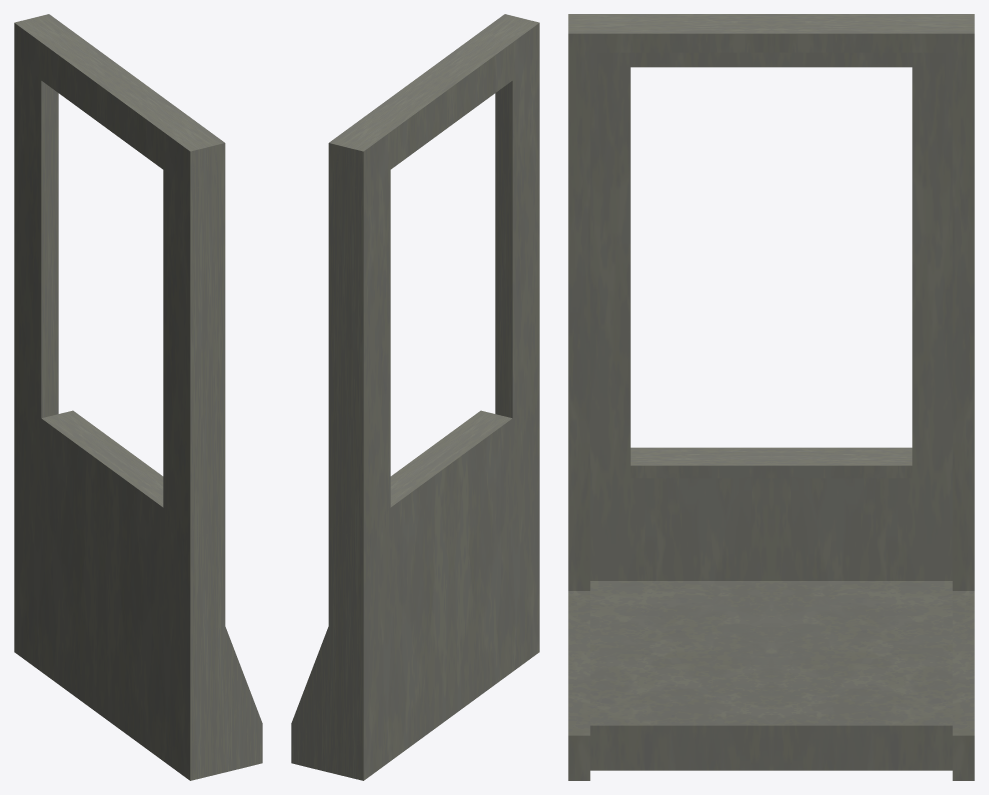
File: SovietWindowV2.fbx
3 renders of one model, left to right at view 1: azimuth 30°, elevation 25°; view 2: azimuth 150°, elevation 25°; view 3: azimuth 270°, elevation 25°, orthographic. The views are drawn at different scales.
Parts seen in each view (by area): view 1: Cube; view 2: Cube; view 3: Cube.
Boxes of the visible parts, x1,y1,x2,y2 form: Cube: (14,14,262,780); Cube: (291,14,539,780); Cube: (568,14,974,780).
Size of the model in its own units: 173 by 1438 by 729.
